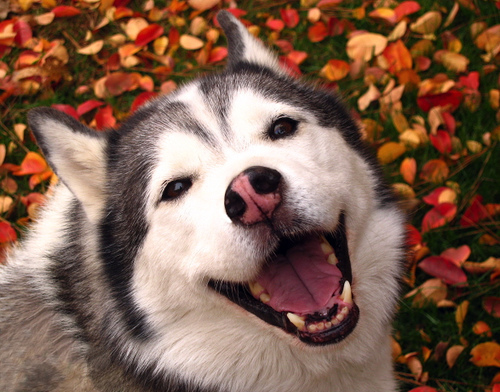dog: (0, 11, 406, 391)
